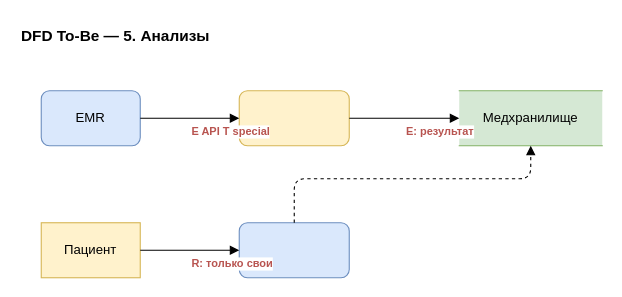
This 622x297 diagram has some shape labels left out. Each missing label, with the box of its shape:
Lab API: (238, 90, 349, 146)
ЛК / App: (238, 222, 349, 278)
